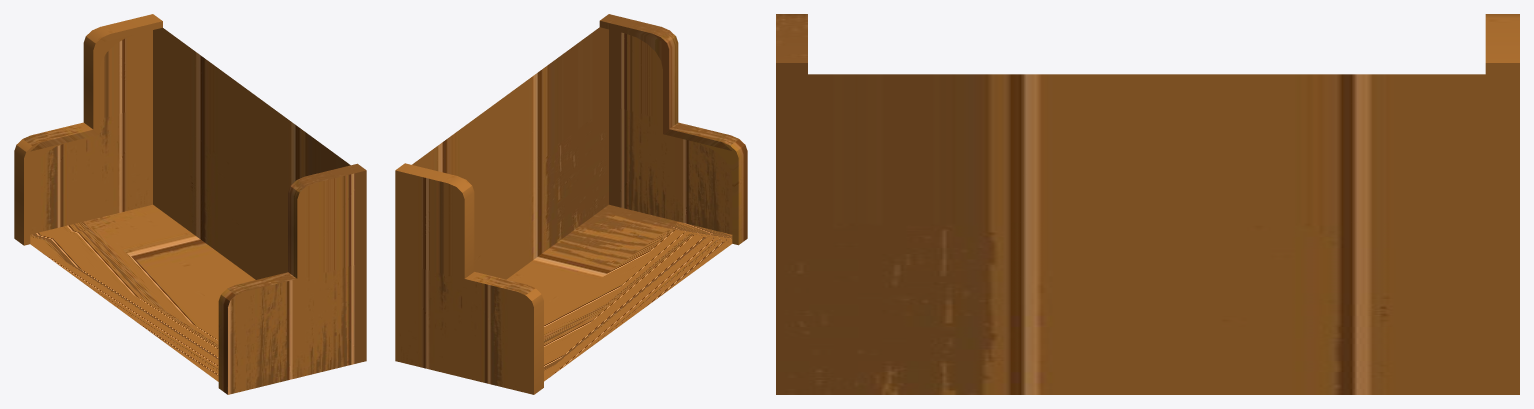
Rendered from Soffa2.fbx.
3 renders of one model, left to right at view 1: azimuth 30°, elevation 25°; view 2: azimuth 150°, elevation 25°; view 3: azimuth 270°, elevation 25°, orthographic. The views are drawn at different scales.
Parts seen in each view (by area): view 1: Soffa2; view 2: Soffa2; view 3: Soffa2.
Part boxes in pixels (<box>): Soffa2: <box>14,14,366,394</box>; Soffa2: <box>395,14,747,394</box>; Soffa2: <box>776,14,1519,394</box>.
Size of the model in its own units: 176 by 231 by 470.
1 material, 1 textured.
